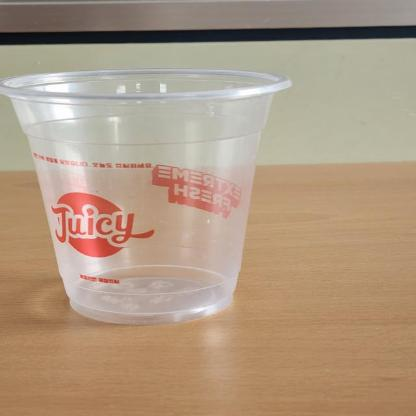Plastic Cup: (2, 66, 292, 326)
